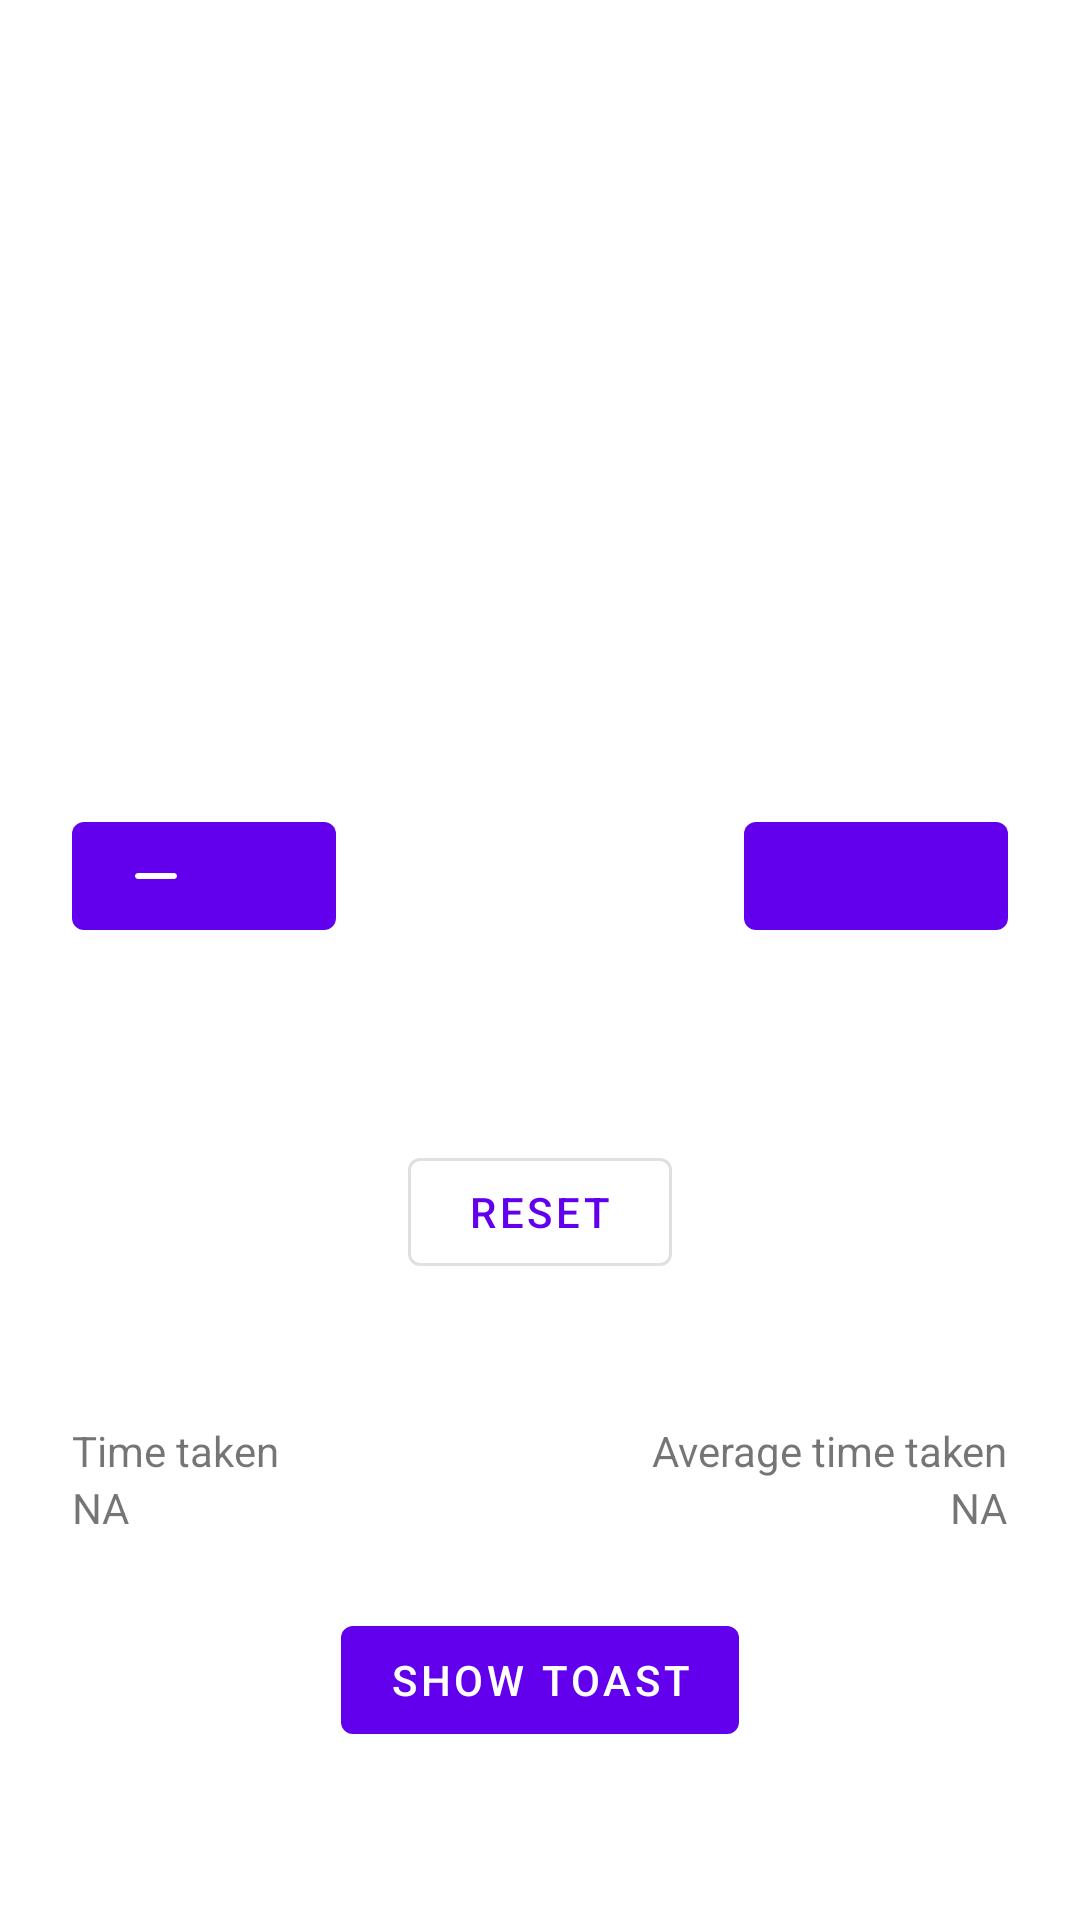

Point at icon controls on the screen. Image size 1080 x 1920, points as (x=x, y=y).
remove: (x=204, y=876)
